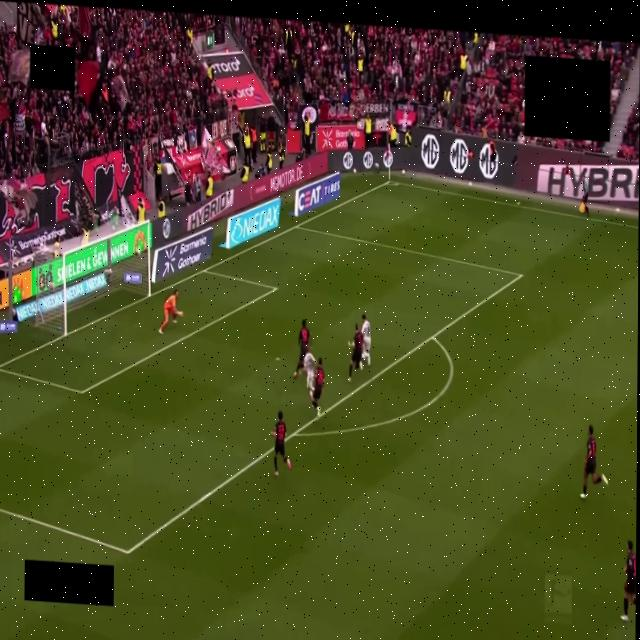player: (581, 425, 608, 499), (271, 411, 291, 476), (621, 540, 635, 622), (159, 290, 183, 334), (293, 319, 310, 379), (348, 324, 363, 382), (310, 357, 324, 417), (303, 349, 315, 390), (362, 314, 371, 366)
